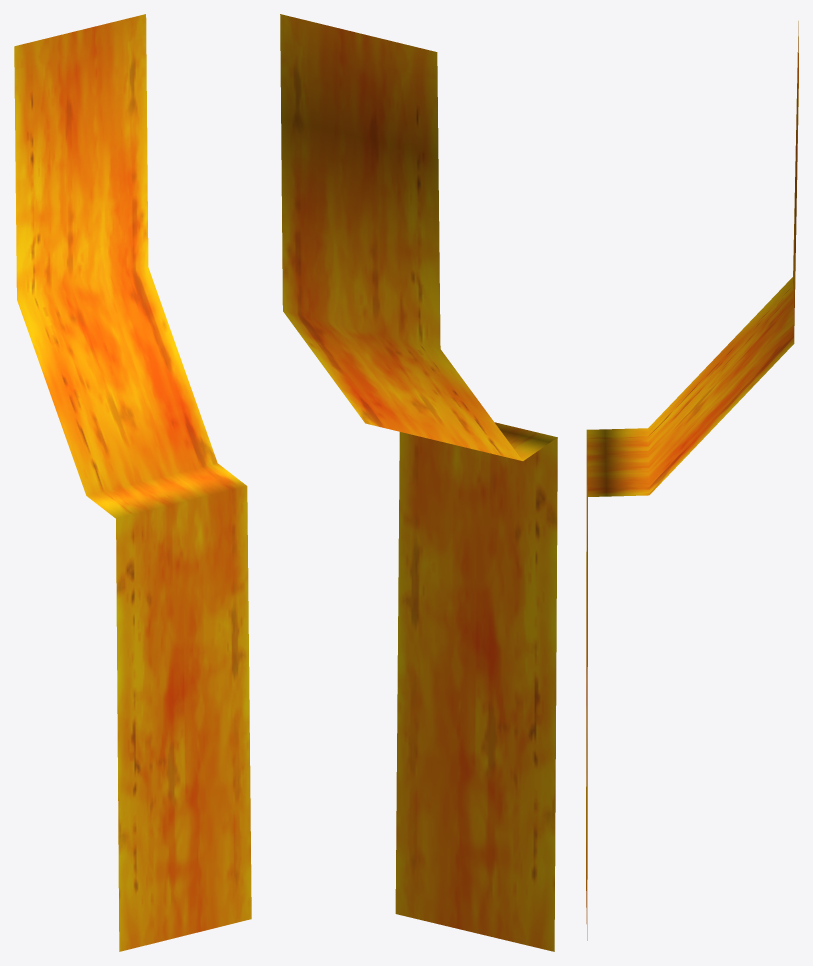
The model's file is track_military_env_lava_03b.fbx.
The picture shows the model from 3 angles, left to right: view 1: azimuth 30°, elevation 25°; view 2: azimuth 150°, elevation 25°; view 3: azimuth 270°, elevation 25°; orthographic projection. The views are drawn at different scales.
Parts seen in each view (by area): view 1: track_military_env_lava_03b; view 2: track_military_env_lava_03b; view 3: track_military_env_lava_03b.
Part boxes in pixels (left/top/right/bottom): track_military_env_lava_03b: left=14, top=14, right=251, bottom=951; track_military_env_lava_03b: left=280, top=14, right=557, bottom=951; track_military_env_lava_03b: left=586, top=21, right=798, bottom=940.
Bounding box in the file's own units: 11.6 × 67.69 × 15.04.
Materials: 1 (1 with a texture image).
